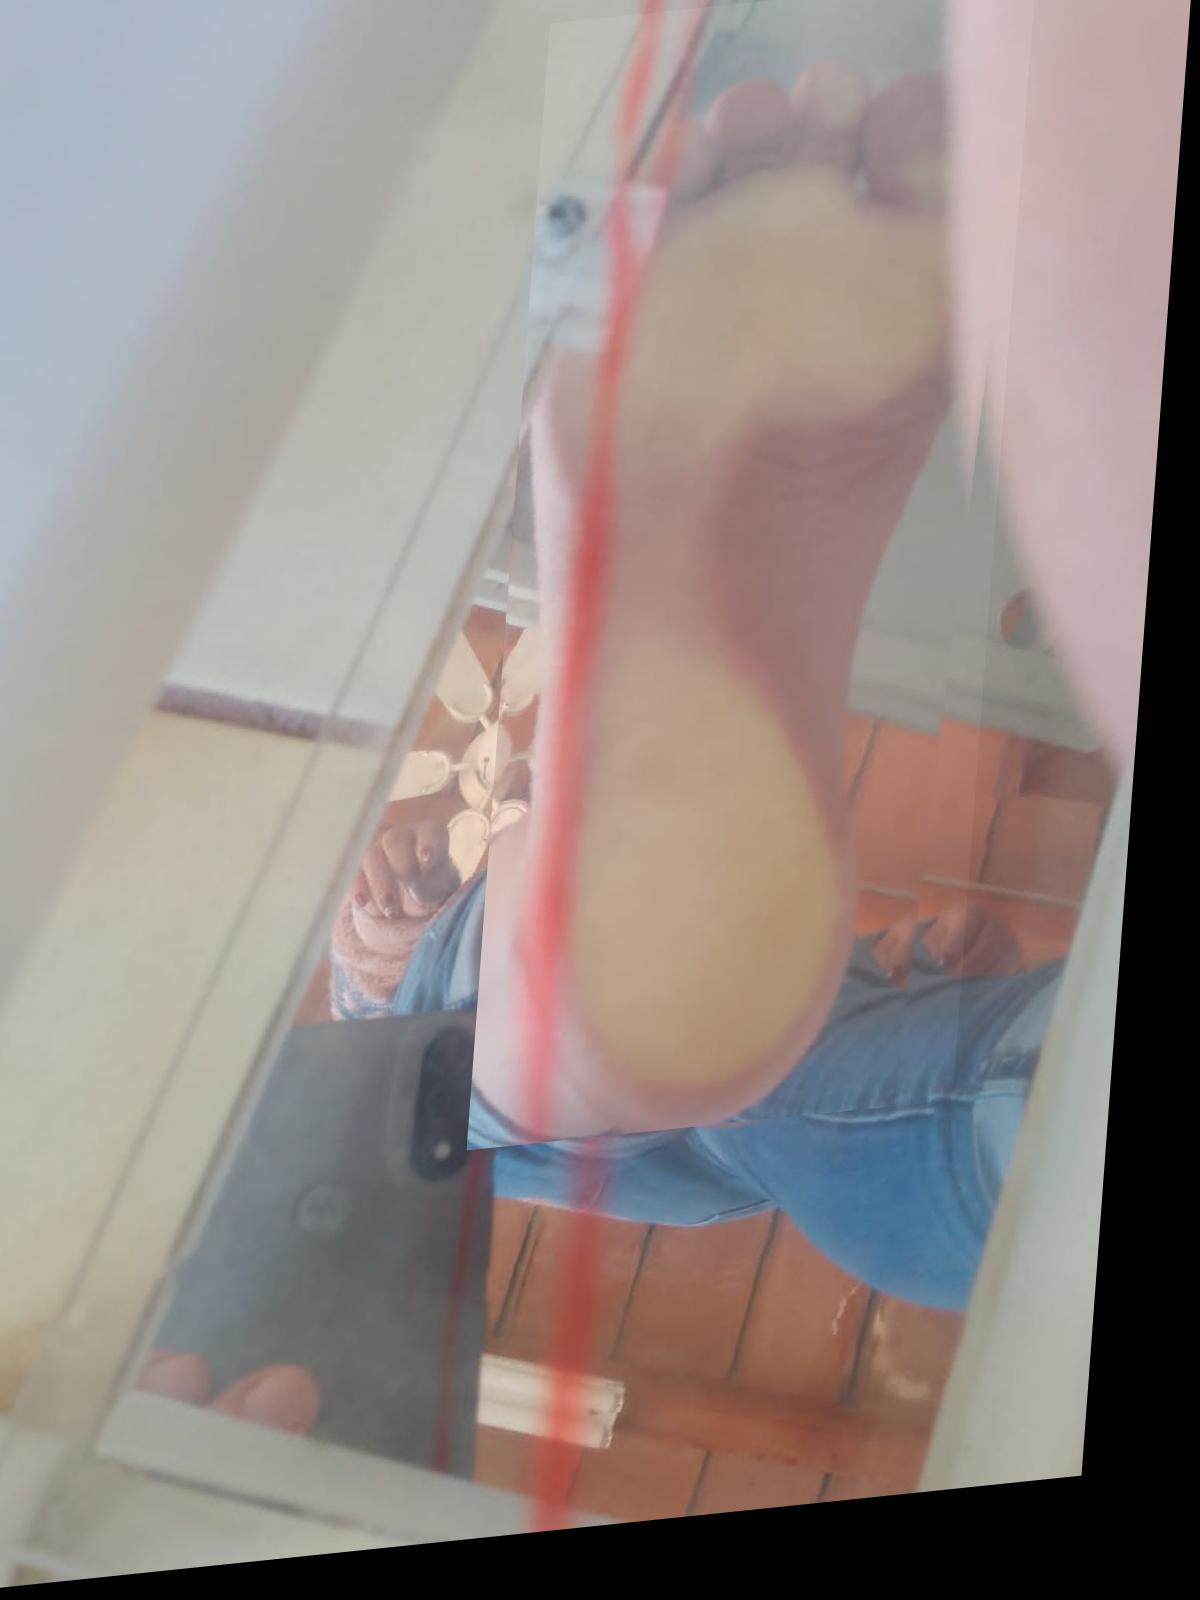Present: (485, 0, 1037, 1163)
